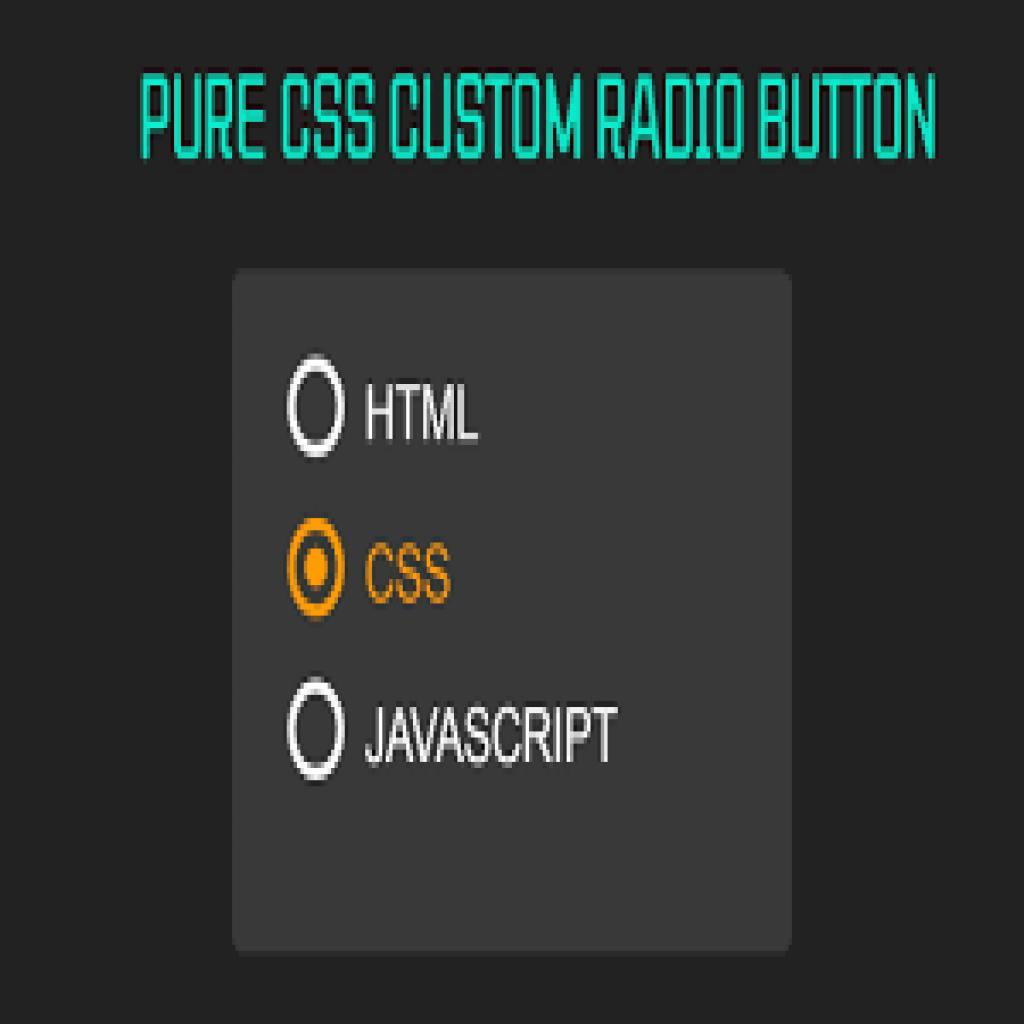radio: (283, 347, 350, 465), (287, 676, 354, 789), (285, 514, 352, 622)
